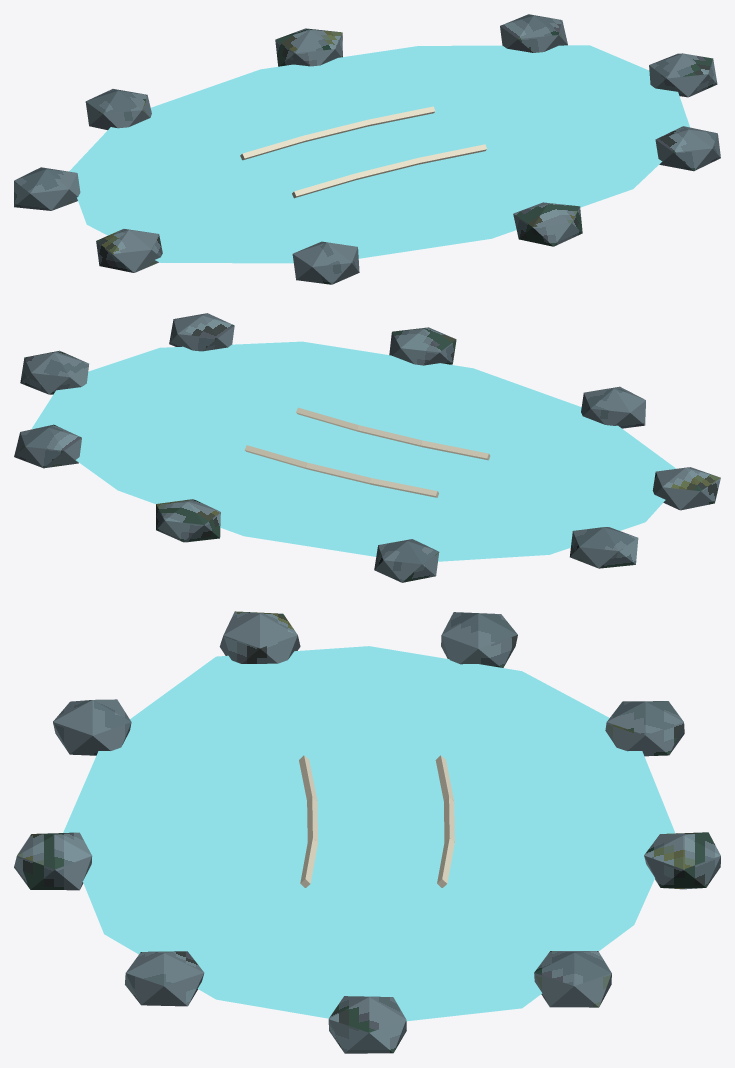
The model's file is enfeite_lago.fbx.
The picture shows the model from 3 angles, top to bottom: view 1: azimuth 30°, elevation 25°; view 2: azimuth 150°, elevation 25°; view 3: azimuth 270°, elevation 25°; orthographic projection. The views are drawn at different scales.
Visible parts, largest first — view 1: bosque_enfeite_lago; view 2: bosque_enfeite_lago; view 3: bosque_enfeite_lago.
Boxes of the visible parts, x1,y1,x2,y2 form: bosque_enfeite_lago: (14, 14, 720, 284); bosque_enfeite_lago: (14, 313, 720, 582); bosque_enfeite_lago: (14, 611, 720, 1053).
Size of the model in its own units: 154 by 9.51 by 109.
3 materials, 1 textured.
